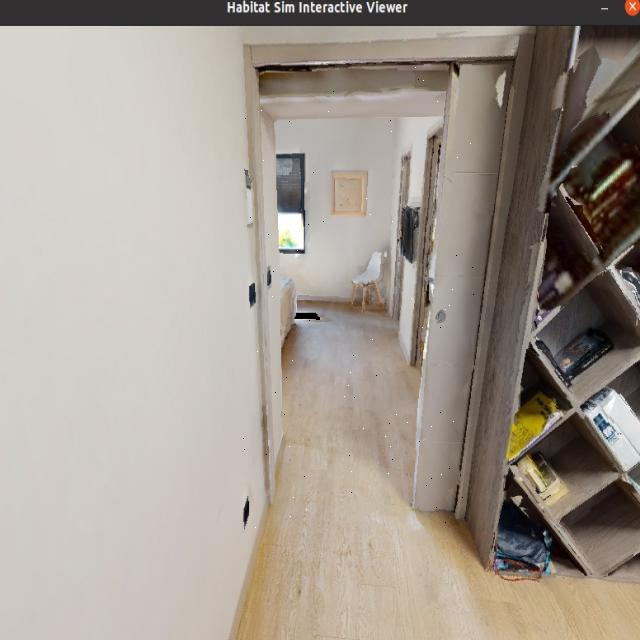chair: (332, 232, 398, 329)
door-frame: (243, 52, 480, 532)
